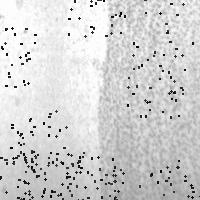pitted_surface: (95, 1, 200, 199), (132, 0, 192, 55), (127, 59, 184, 116), (10, 110, 65, 165), (28, 152, 87, 200), (66, 156, 126, 200), (0, 154, 44, 200), (68, 0, 124, 35), (0, 27, 34, 80), (0, 131, 31, 187), (112, 170, 168, 200), (0, 38, 28, 92), (165, 158, 200, 200)
